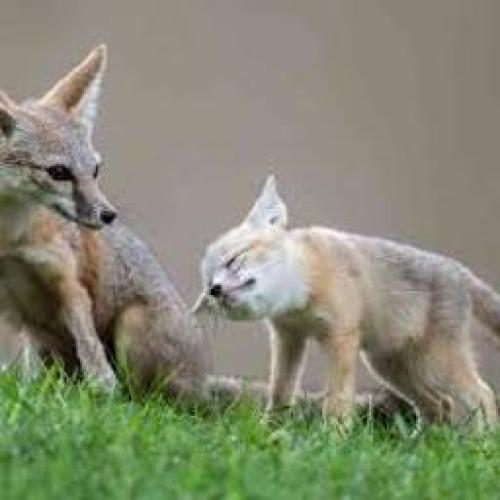arctic_fox-endangered: (0, 43, 230, 412), (184, 165, 500, 426)
